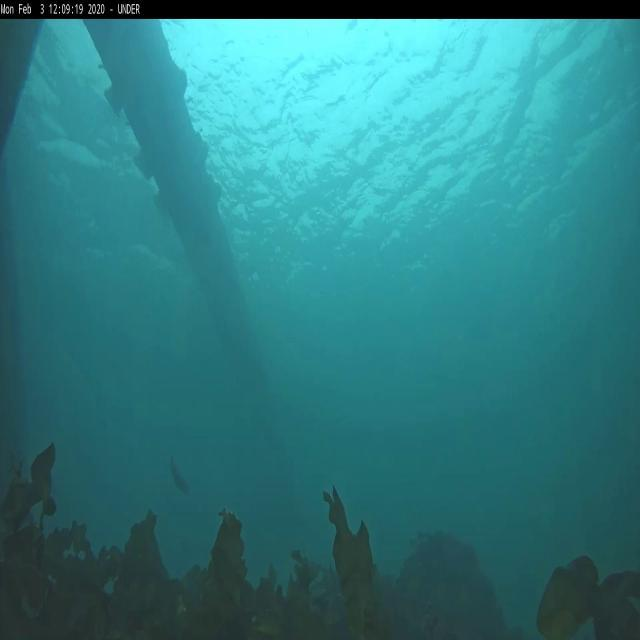fish: (168, 454, 191, 496)
